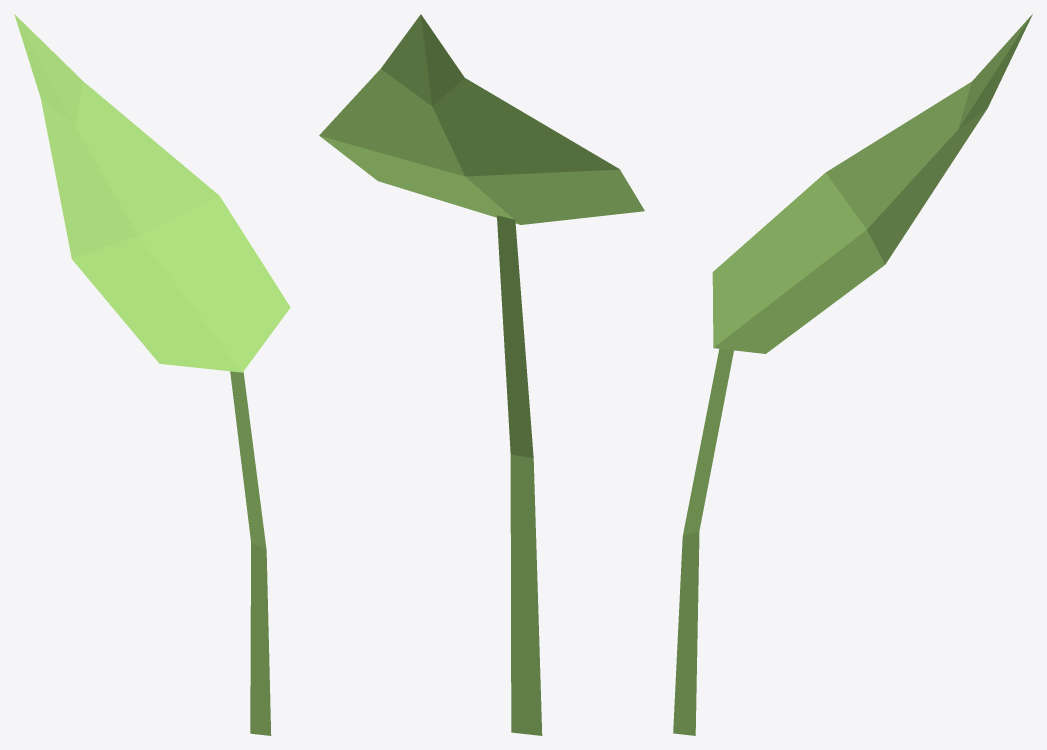
File: Plant_f_TwoS_01.fbx
The picture shows the model from 3 angles, left to right: view 1: azimuth 30°, elevation 25°; view 2: azimuth 150°, elevation 25°; view 3: azimuth 270°, elevation 25°; orthographic projection. The views are drawn at different scales.
Parts seen in each view (by area): view 1: Plant_f_TwoS_01; view 2: Plant_f_TwoS_01; view 3: Plant_f_TwoS_01.
Part boxes in pixels (bbox=[...]): Plant_f_TwoS_01: bbox=[14, 14, 290, 735]; Plant_f_TwoS_01: bbox=[319, 14, 644, 735]; Plant_f_TwoS_01: bbox=[673, 14, 1032, 735].
Bounding box in the file's own units: 13.89 × 43.24 × 20.98.
